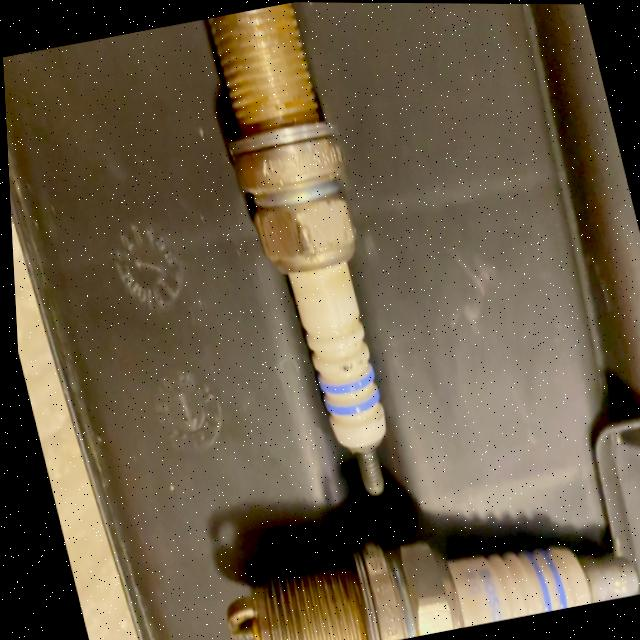spark-plug: (208, 1, 415, 508), (203, 511, 639, 640)
